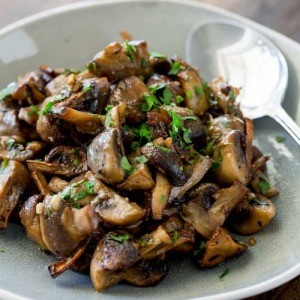mushroom_brain food: (38, 114, 219, 227)
